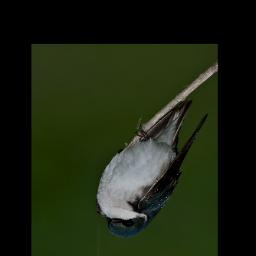Swallow: (93, 98, 209, 241)
